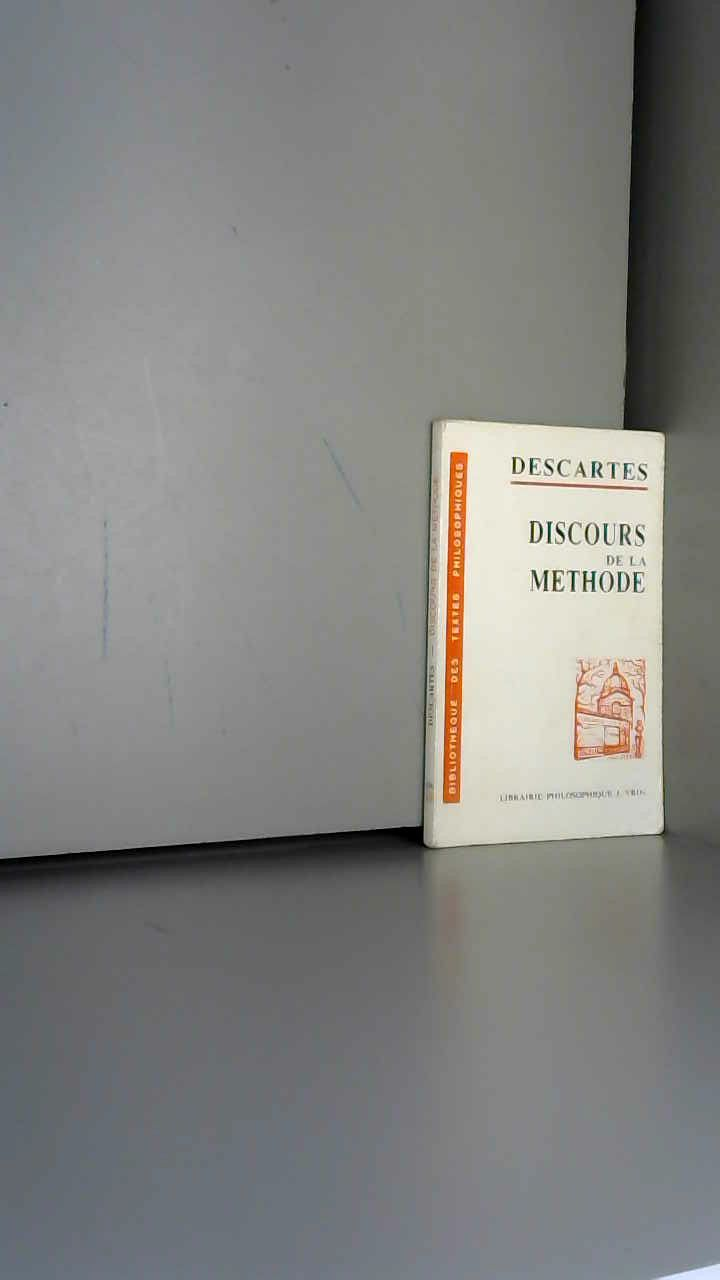book: (400, 390, 716, 906)
